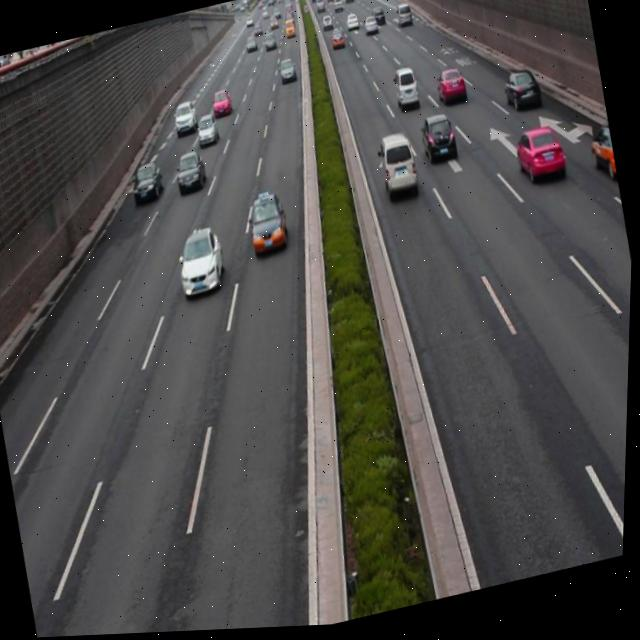car: (173, 224, 233, 304), (512, 126, 567, 192), (245, 193, 293, 262), (419, 114, 460, 172), (500, 69, 543, 122), (128, 158, 169, 211), (585, 129, 620, 190), (432, 67, 471, 115), (173, 150, 211, 198), (172, 99, 201, 139), (194, 113, 222, 151), (210, 89, 234, 121)
truck: (375, 132, 421, 204), (391, 67, 422, 114)
